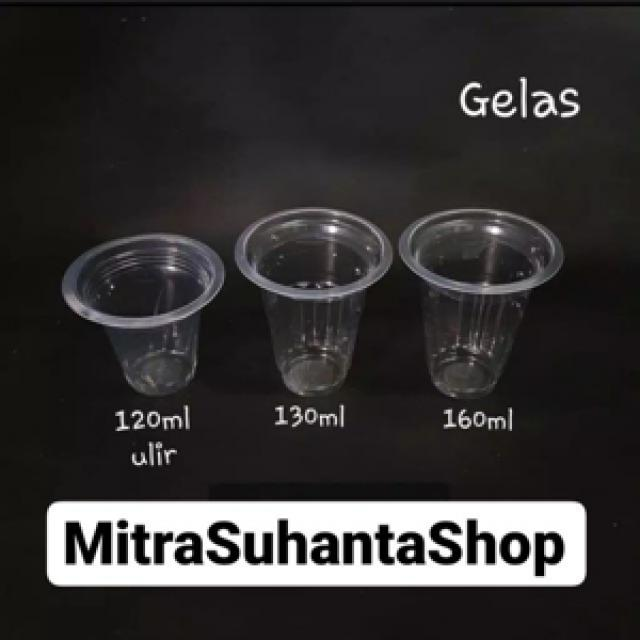plastic cup: (397, 201, 567, 403), (228, 203, 397, 401), (54, 228, 228, 403)
